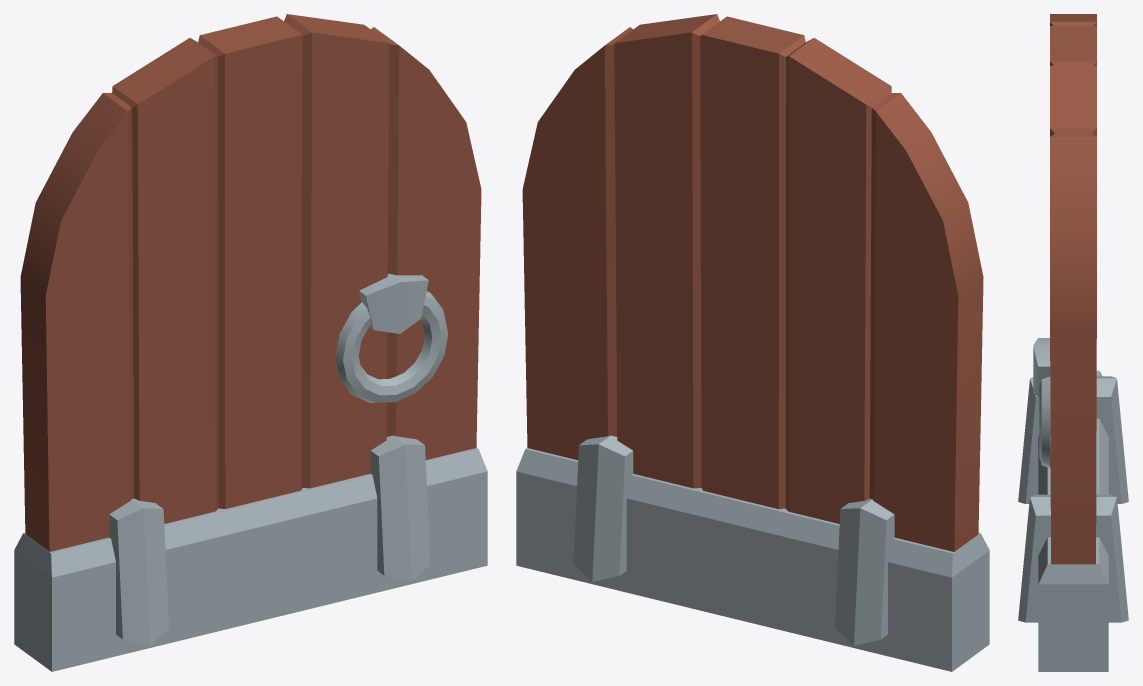
Rendered from door.gltf.
3 views of the same model, side by side, from view 1: azimuth 30°, elevation 25°; view 2: azimuth 150°, elevation 25°; view 3: azimuth 270°, elevation 25° (orthographic). The views are drawn at different scales.
Parts seen in each view (by area): view 1: door; view 2: door; view 3: door.
Part boxes in pixels (<box>): door: <box>14,14,487,671</box>; door: <box>516,14,989,671</box>; door: <box>1018,14,1128,671</box>.
Bounding box in the file's own units: 2 × 2.5 × 0.4739.
